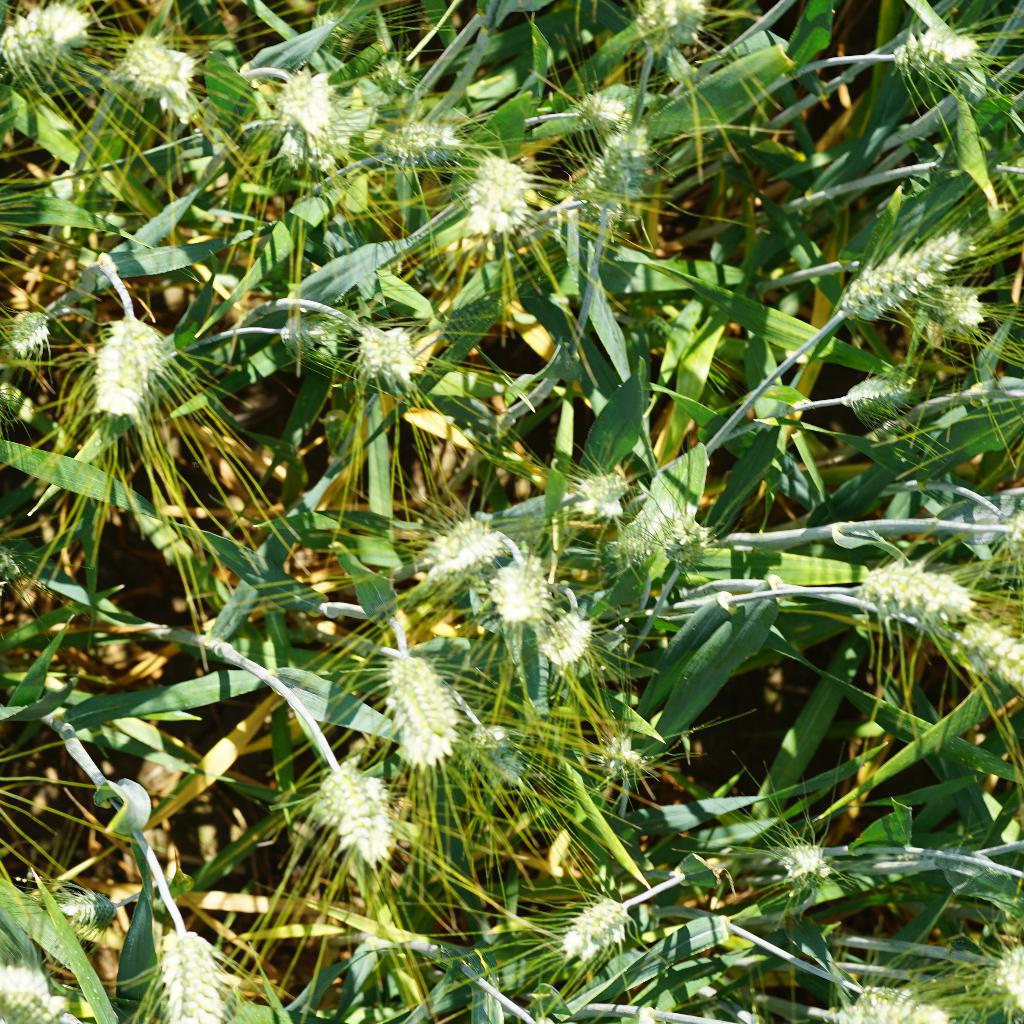0-0: (836, 230, 963, 335), (372, 642, 471, 772), (149, 907, 242, 1024), (884, 4, 1006, 90), (83, 302, 171, 421), (851, 546, 975, 626), (111, 17, 208, 119), (314, 762, 402, 867), (336, 305, 432, 395), (533, 598, 636, 673), (458, 144, 539, 239), (425, 494, 511, 580), (582, 123, 658, 216), (545, 878, 631, 960), (545, 452, 649, 519), (823, 965, 940, 1024), (380, 108, 482, 175), (0, 0, 95, 67), (600, 488, 673, 575), (944, 608, 1024, 681), (34, 869, 116, 940), (482, 544, 556, 621), (260, 66, 343, 133), (938, 283, 1013, 351), (357, 37, 429, 107), (0, 955, 73, 1024), (627, 0, 721, 53), (467, 718, 538, 785), (836, 369, 925, 419), (571, 78, 631, 146), (665, 508, 721, 579), (776, 832, 844, 889), (7, 302, 58, 363), (597, 732, 657, 773)
